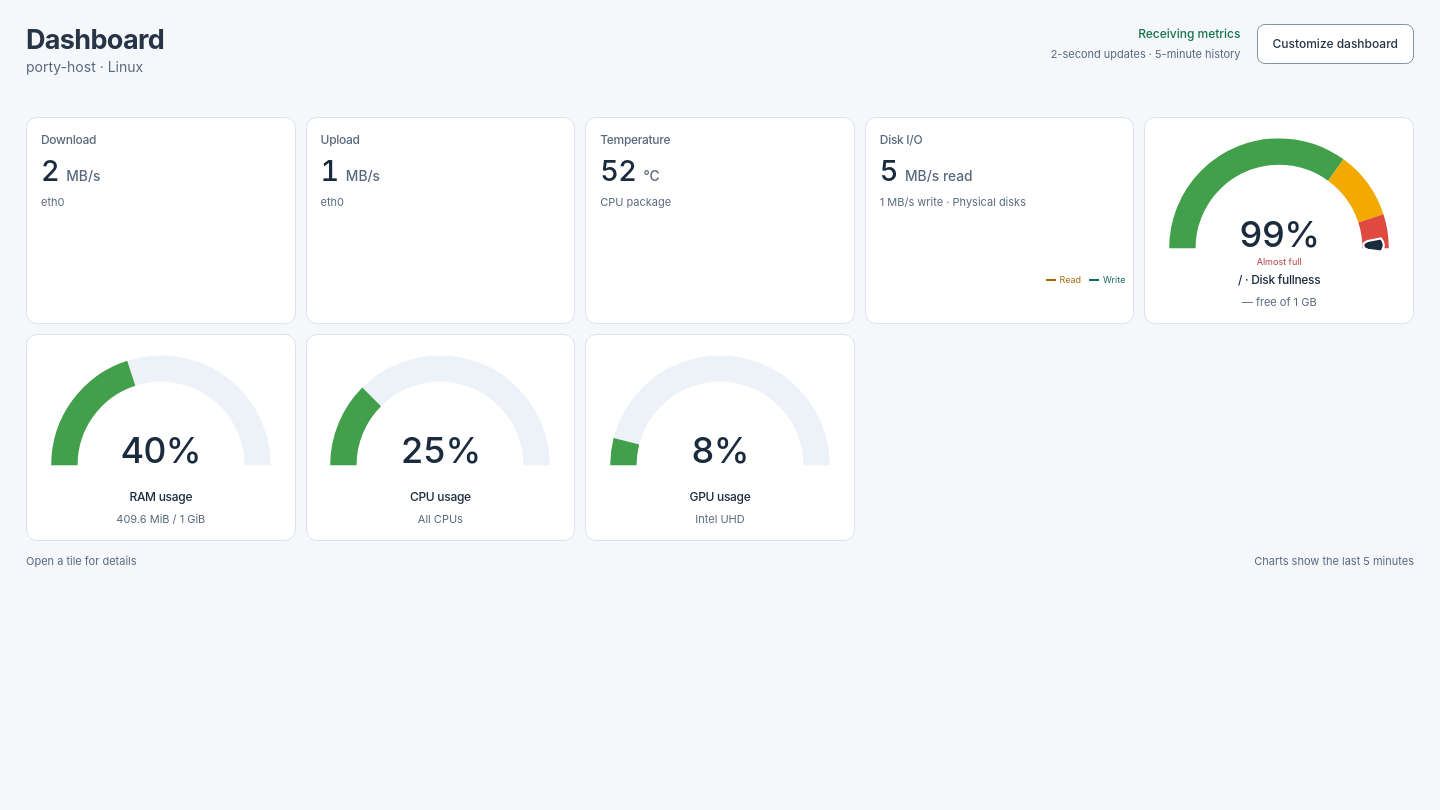
keeps incomplete disk activity explanations with disk activity details
Click the button named "Disk activity details" at (1000,221), box [866,118,1133,323]
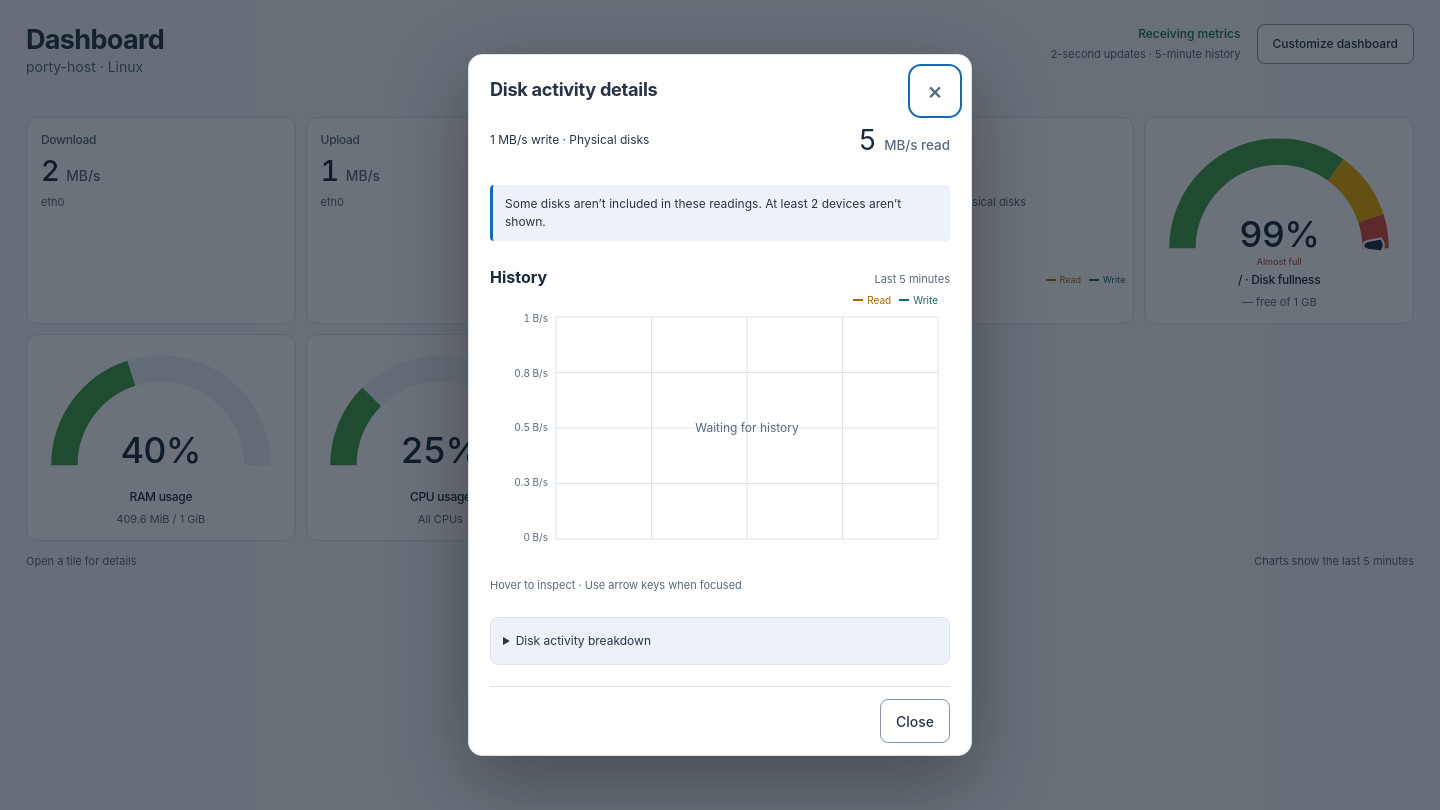
Expected: the text "Some disks aren’t included in these readings. At least 2 devices aren’t shown." is shown, [505,195,938,231]
